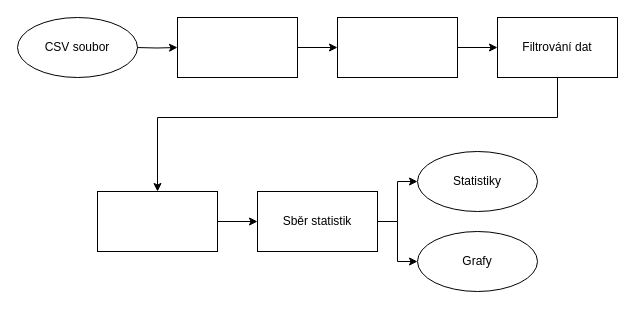
The diagram is 635 pixels wide and 309 high, and some of its shapes have lost their labels. The centre of each missing label's shape, as x and y in pixels:
"Načtení datového souboru" belongs at (x=237, y=47).
"Převod do vnitřní reprezentace" belongs at (x=397, y=47).
"Transformace dat na časová okna" belongs at (x=157, y=221).
